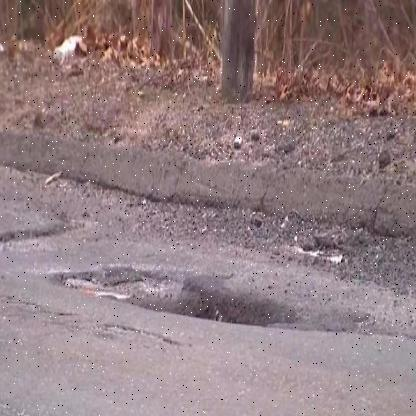pothole: (46, 253, 318, 334)
